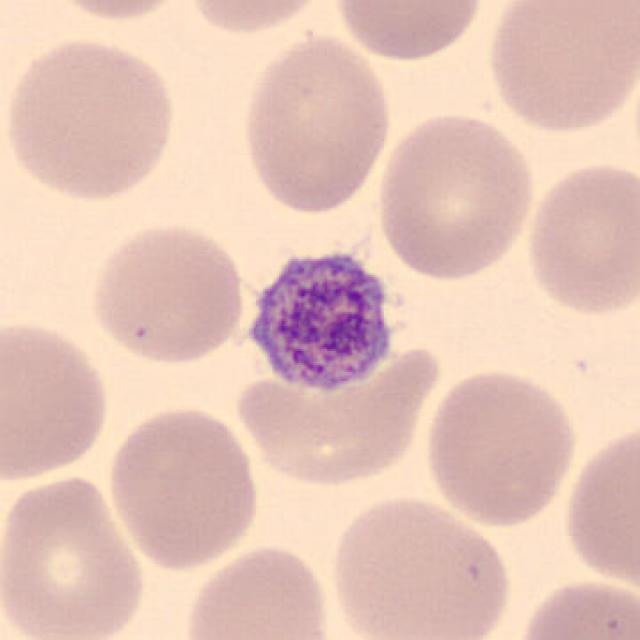Platelets: (231, 234, 409, 404)
RBC: (231, 338, 441, 492), (2, 34, 181, 206), (372, 106, 540, 284), (236, 30, 394, 217), (324, 490, 516, 640), (103, 402, 263, 573), (419, 363, 582, 529), (0, 470, 149, 640), (85, 218, 251, 368), (480, 0, 636, 138), (0, 314, 116, 486), (521, 157, 638, 321), (177, 539, 339, 640), (560, 416, 640, 594), (329, 0, 489, 63), (508, 573, 640, 640), (180, 0, 334, 39), (34, 0, 199, 25)
